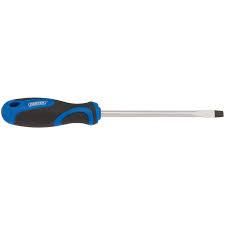screwdriver: (0, 97, 224, 126)
